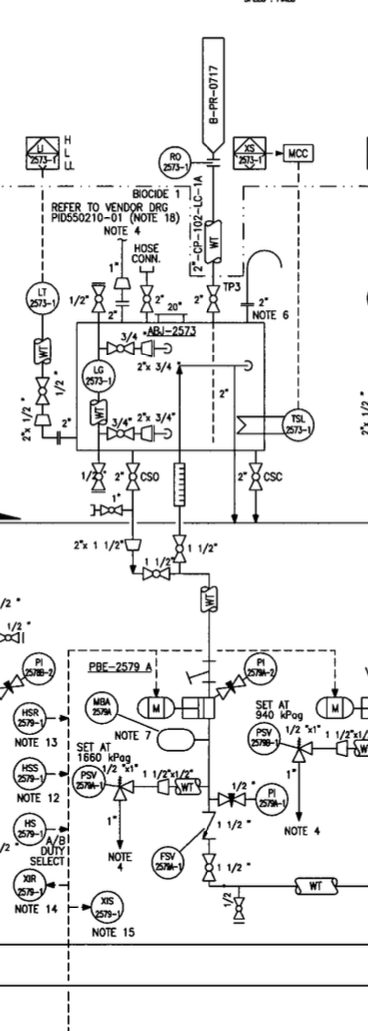Instrument: (77, 686, 122, 730), (9, 696, 54, 739), (235, 650, 282, 690), (253, 777, 290, 820), (241, 718, 281, 757), (74, 361, 122, 393), (8, 808, 48, 846), (280, 404, 316, 446), (70, 758, 106, 799), (145, 845, 188, 879), (85, 889, 127, 923), (22, 649, 57, 689), (157, 142, 192, 182), (8, 867, 47, 902), (24, 280, 63, 315), (12, 755, 47, 793)
Instrument-square: (17, 131, 64, 173), (227, 132, 272, 174)
